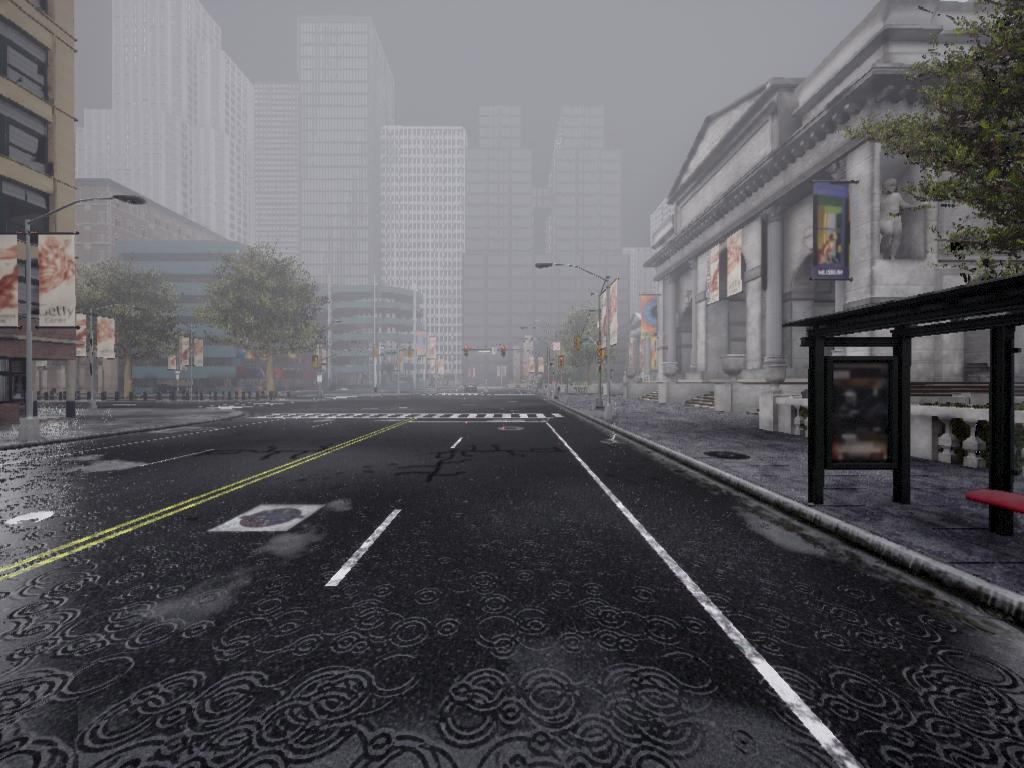traffic_light: (598, 341, 605, 360), (575, 337, 581, 353), (558, 357, 565, 370), (373, 344, 378, 362), (498, 349, 506, 358), (314, 355, 319, 369), (465, 345, 469, 360), (409, 347, 413, 360)
